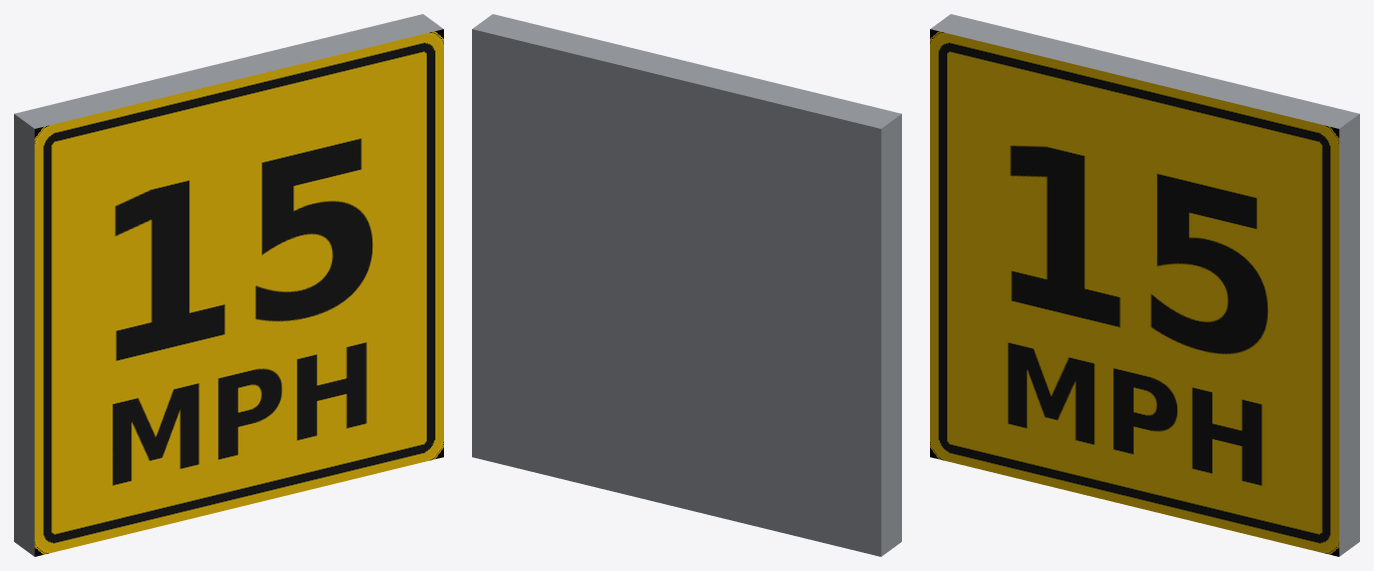
File: us_advisory15.dae
3 renders of one model, left to right at view 1: azimuth 30°, elevation 25°; view 2: azimuth 150°, elevation 25°; view 3: azimuth 330°, elevation 25°, orthographic.
Visible parts, largest first — view 1: sign4, Colmesh-1; view 2: Colmesh-1; view 3: sign4, Colmesh-1.
Part boxes in pixels (box(x1,y1,x2,y2)): sign4: box(34, 29, 443, 556); Colmesh-1: box(14, 14, 443, 556); Colmesh-1: box(472, 14, 901, 556); sign4: box(930, 29, 1339, 556); Colmesh-1: box(930, 14, 1359, 556).
Bounding box in the file's own units: 0.4572 × 0.04 × 0.4572.
2 materials, 1 textured.
